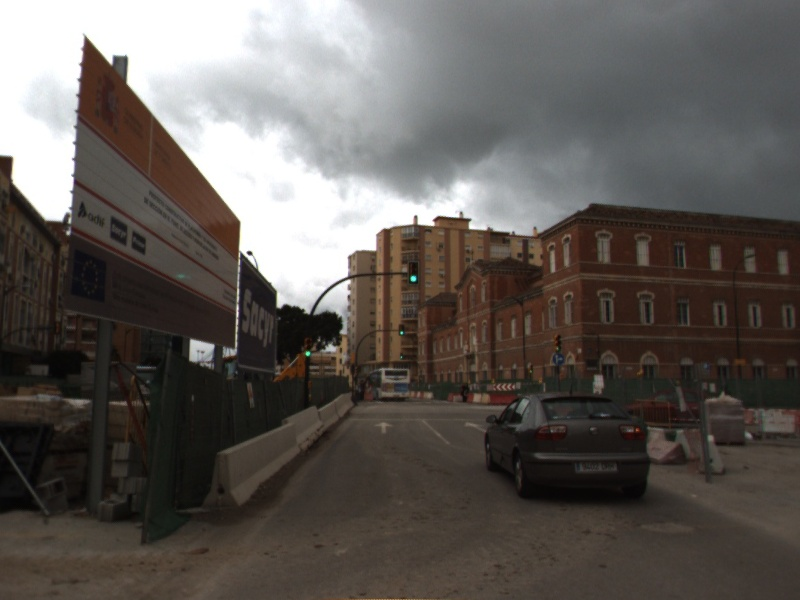STRAIGHT: (462, 420, 489, 434), (372, 420, 396, 435)
